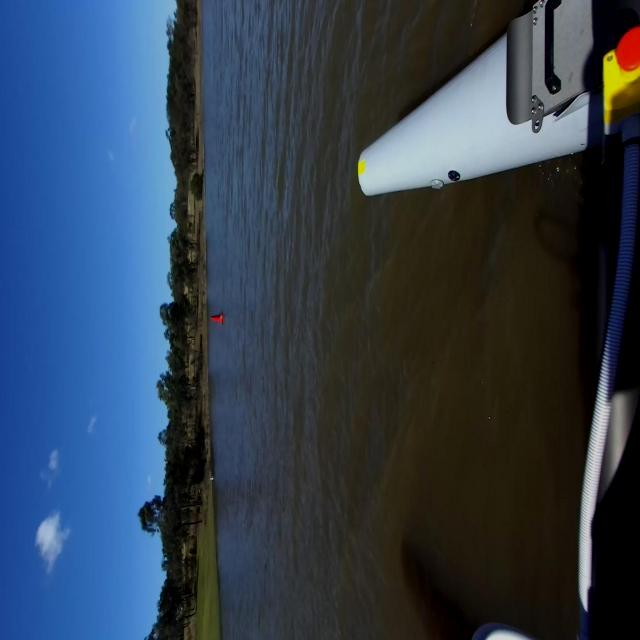Red_Buoy: (206, 313, 226, 331)
